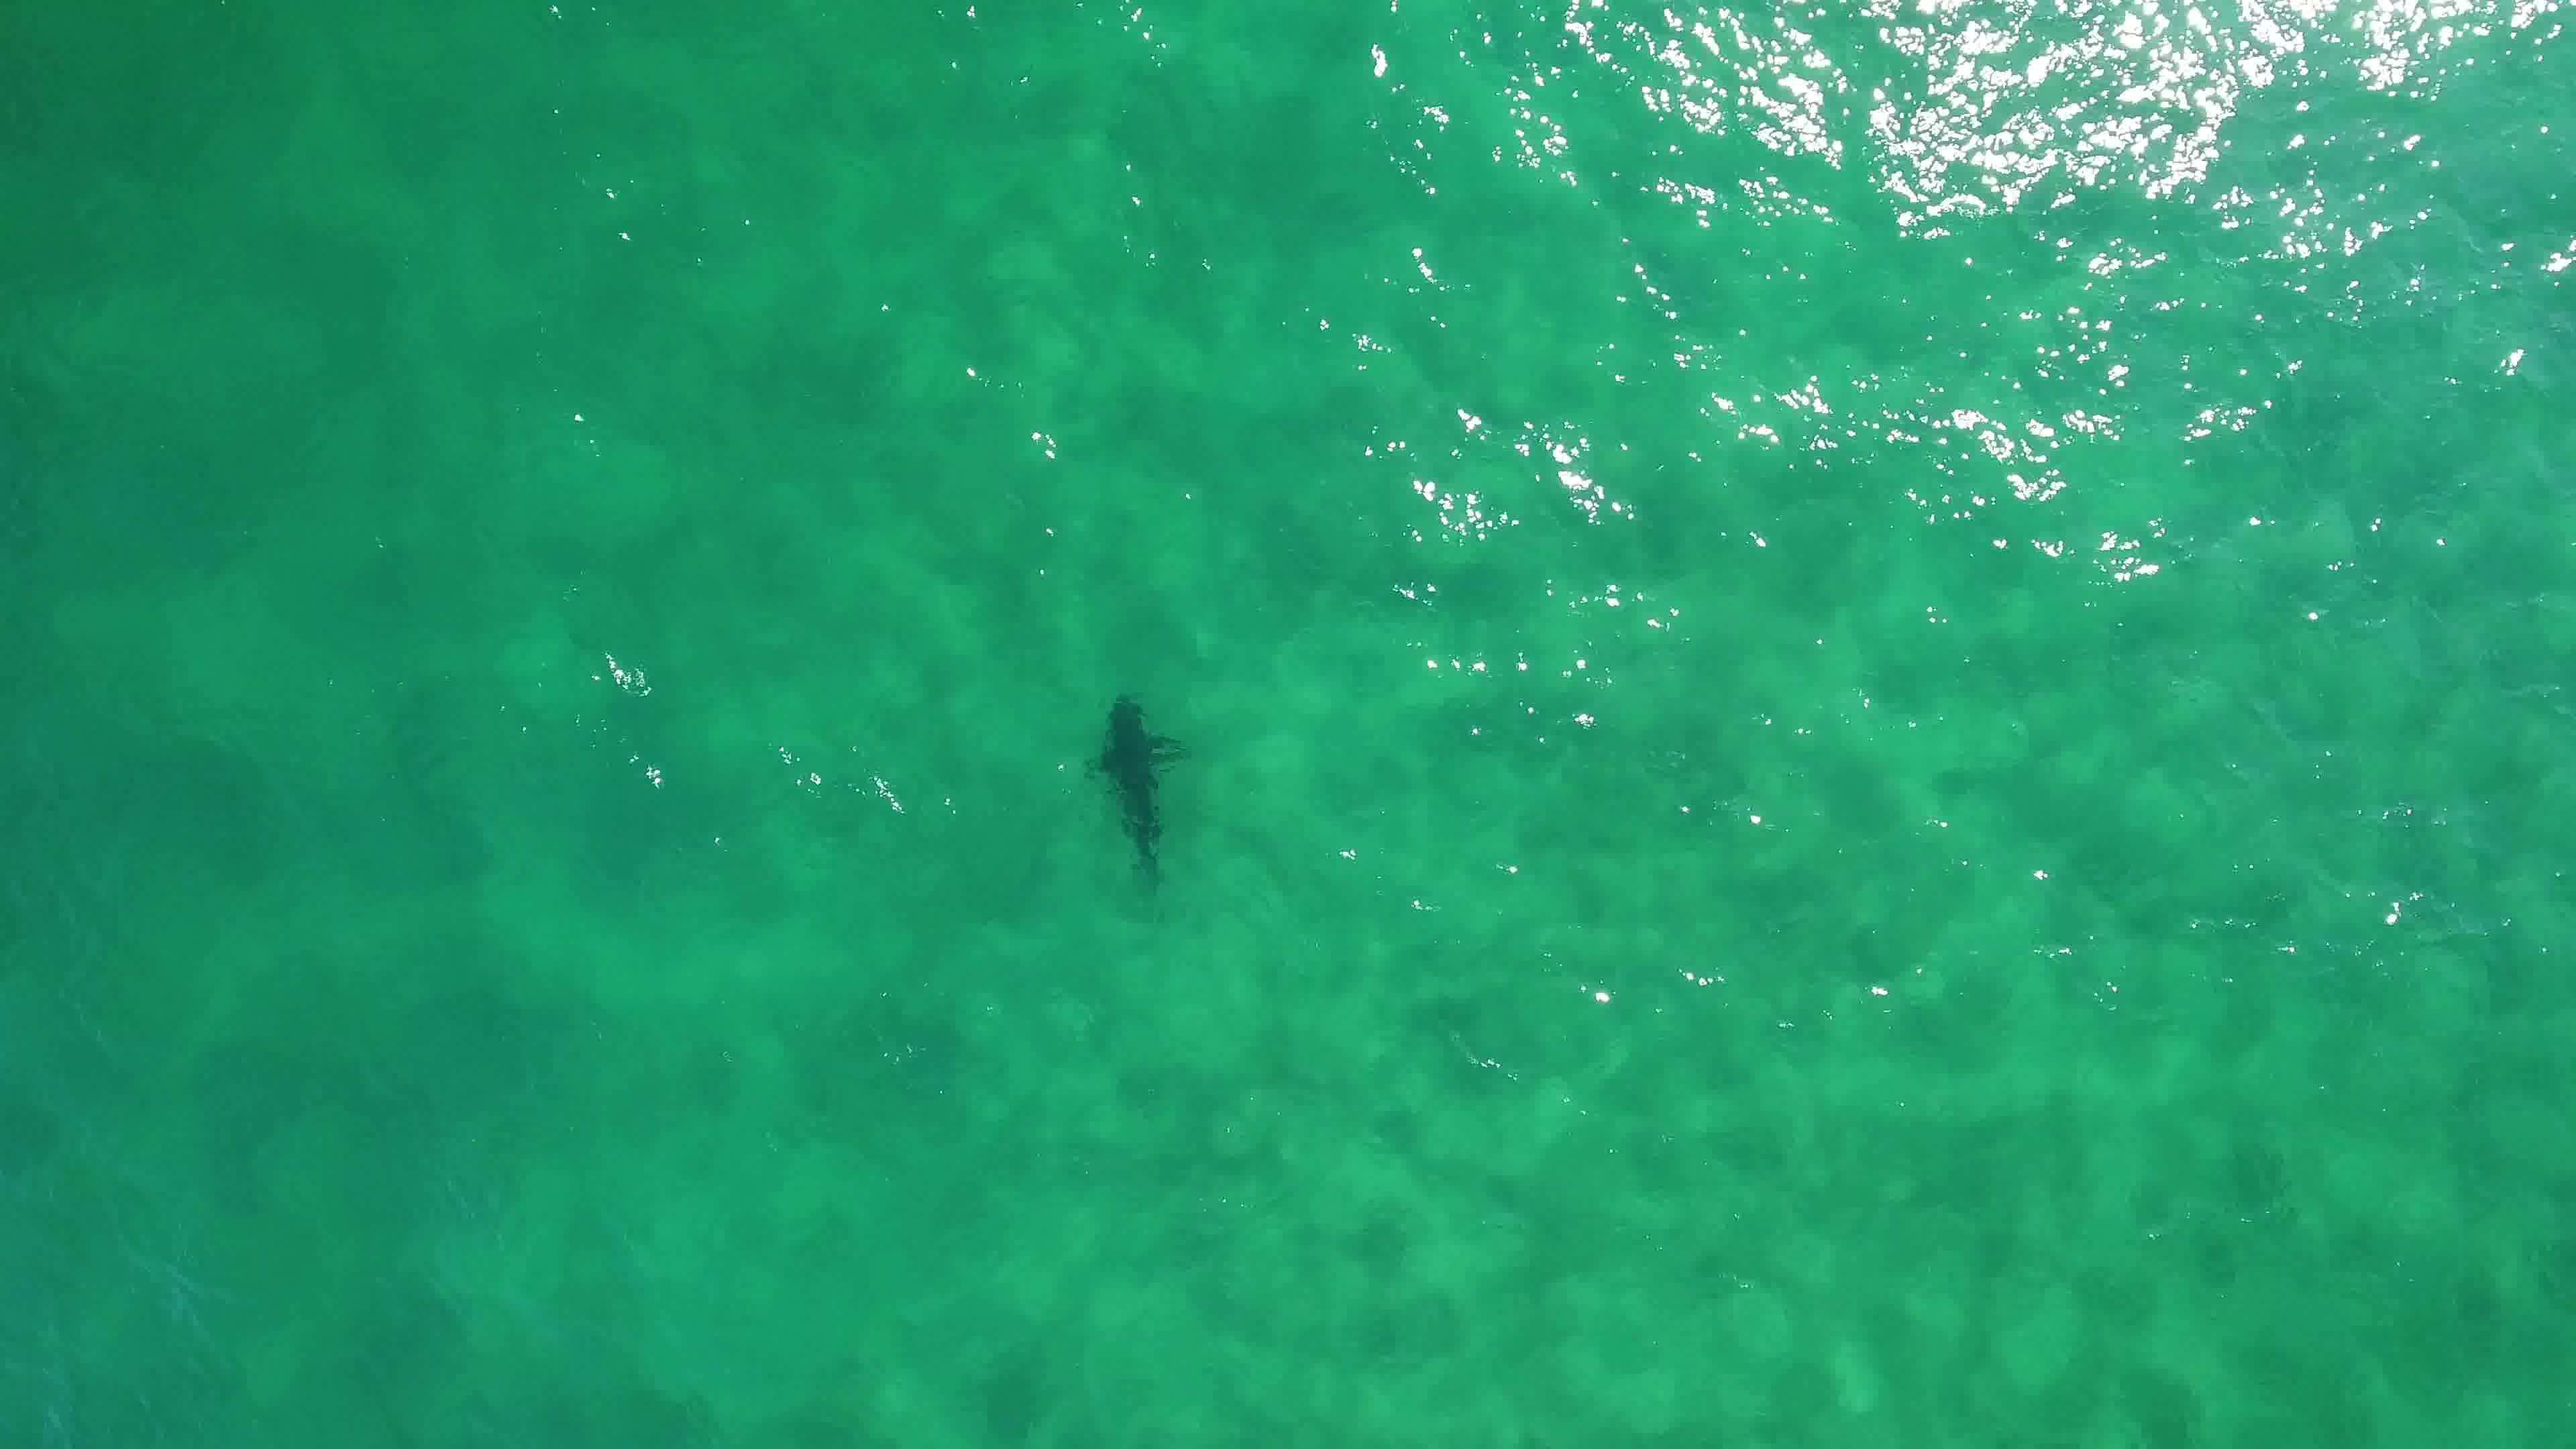shark: (1074, 688, 1196, 883)
